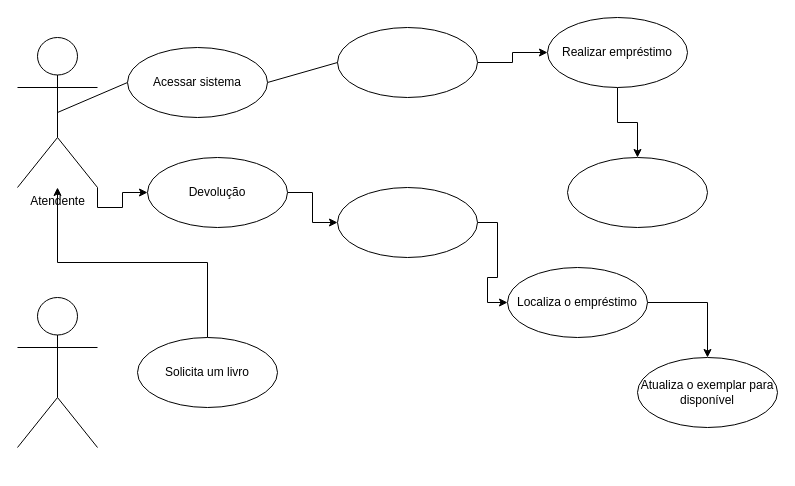
Image size: 795x486. Some labels were removed from this diagram. Each missing label, with the centre of its shape:
Acessa o sistema: (407,222)
Atualização do exemplar para "emprestrado": (637,192)
Consulta acervo para verificar disponibilidade: (407,62)
Usuário: (57,372)
